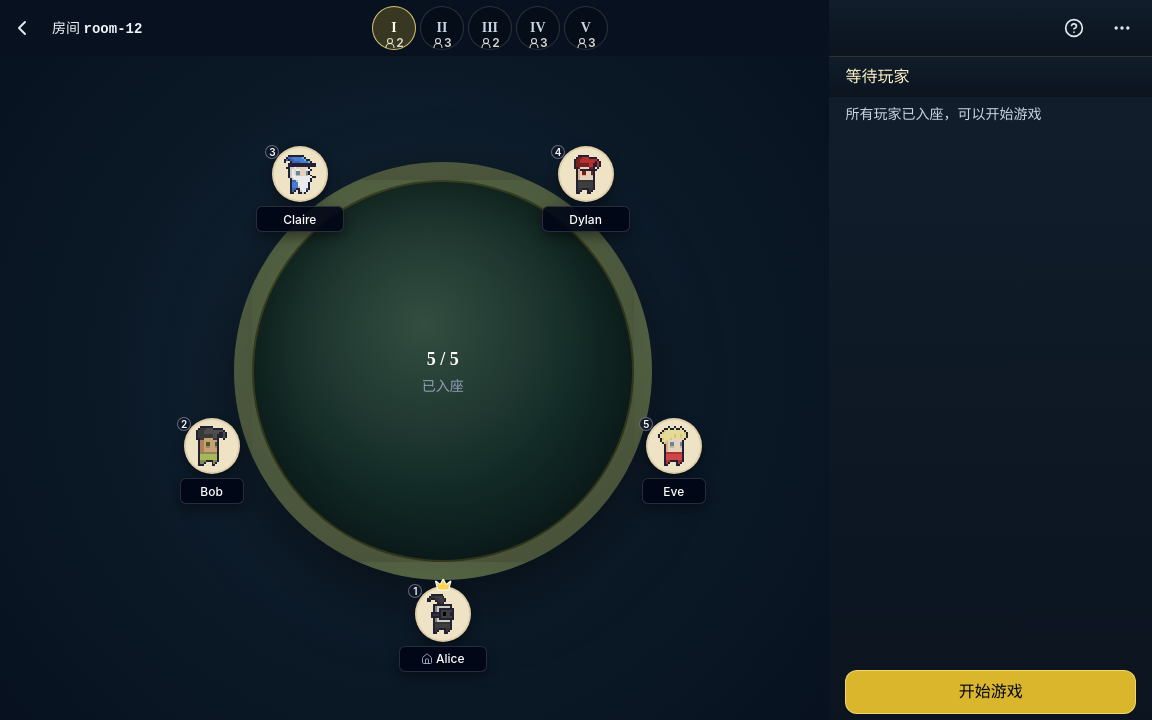
Scenario: RoomView profile editing › closes with a clear error when the server serializes game start first
The image size is (1152, 720).
Click the button with aria-label "编辑名字和头像" at (443, 659), box [399,646,487,672]
(page scrolled)
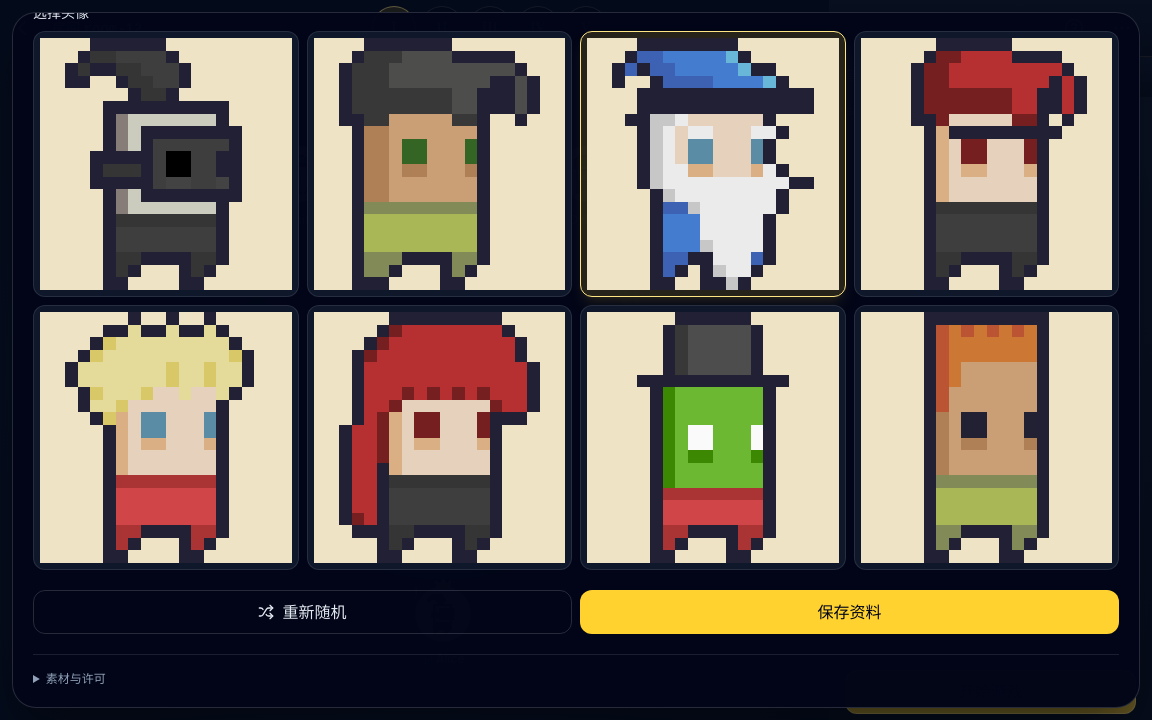
Click the button "保存资料" at (850, 612), box [580,590,1119,634]
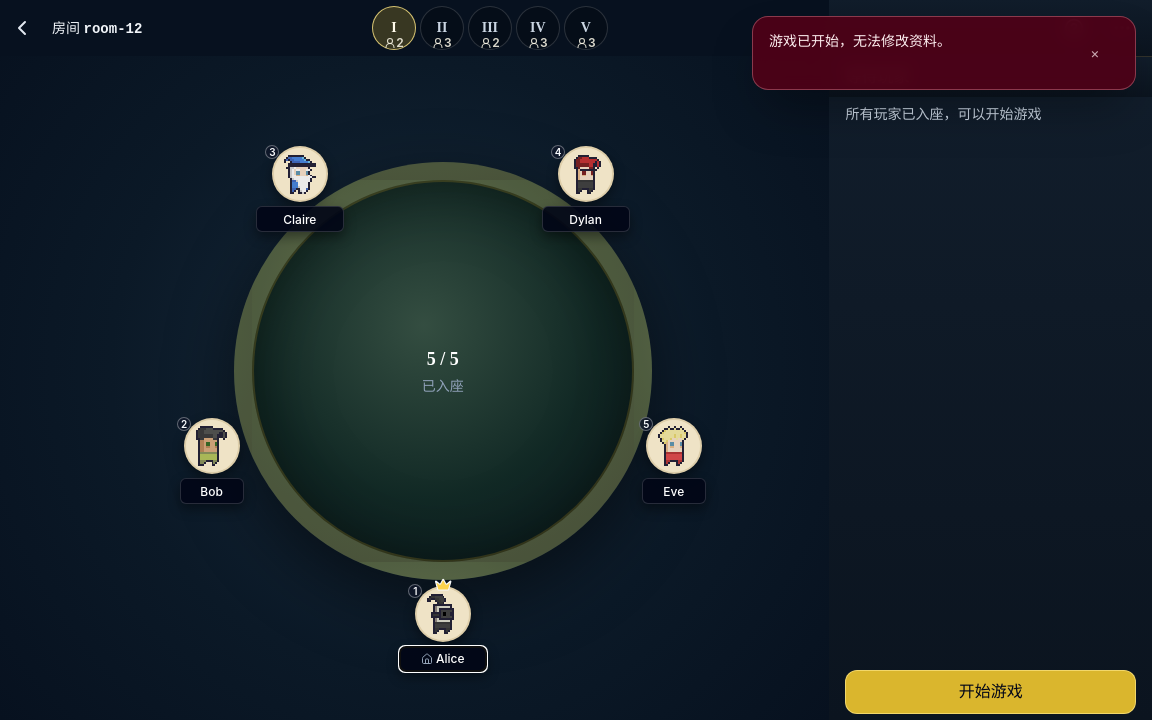
expect the dialog named "用户中心" is gone: met
expect the text "游戏已开始，无法修改资料。" is shown: met, box [769,32,951,49]
